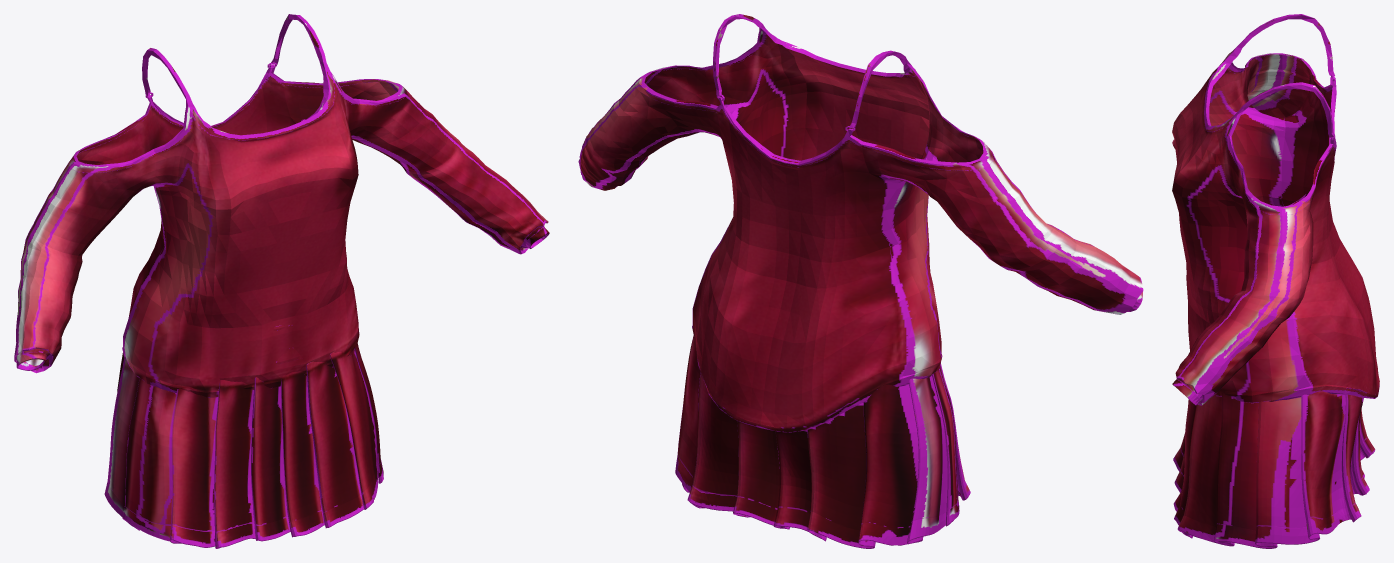
3 renders of one model, left to right at view 1: azimuth 30°, elevation 25°; view 2: azimuth 150°, elevation 25°; view 3: azimuth 270°, elevation 25°, orthographic. The views are drawn at different scales.
Bounding box in the file's own units: 1.01 × 0.8351 × 0.3448.
1 material, 1 textured.
